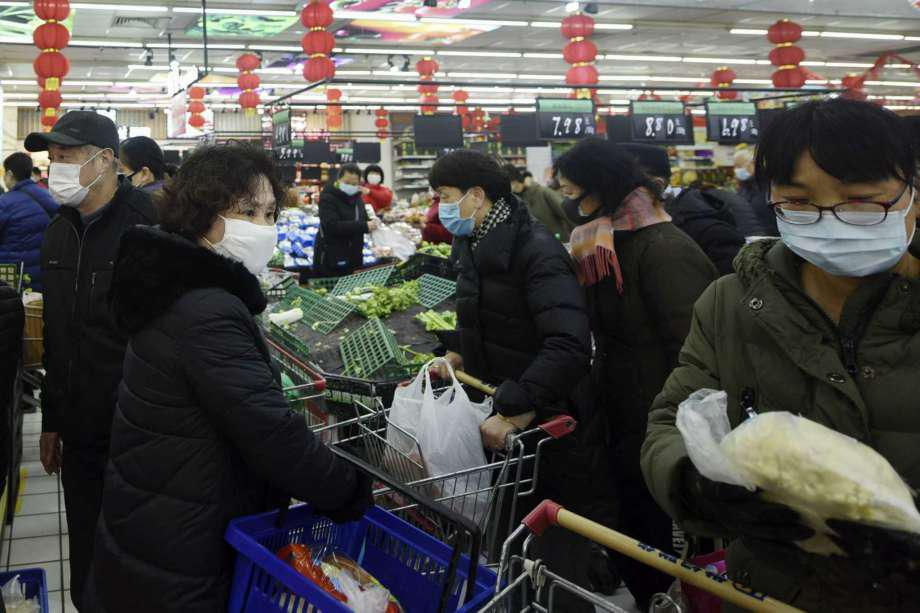mask: (771, 177, 911, 280), (214, 199, 278, 277), (42, 149, 92, 211), (436, 191, 475, 239), (559, 182, 590, 226), (336, 177, 364, 198), (730, 160, 752, 182), (365, 169, 383, 189)
